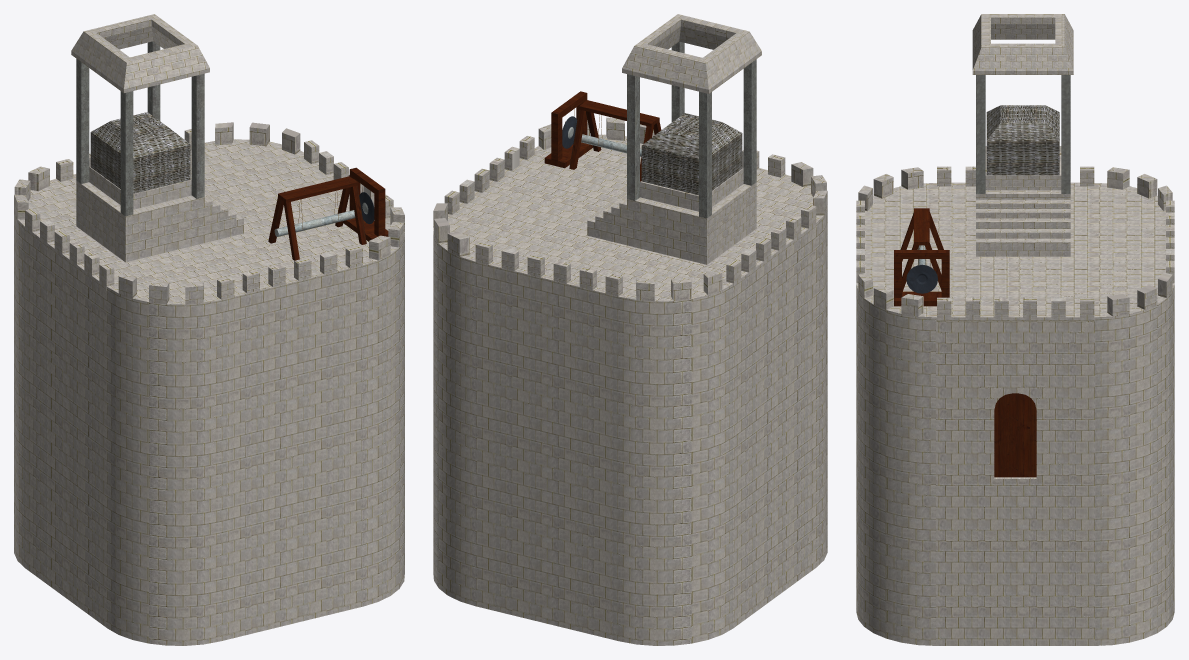
The model's file is mountain_Tower_Full.fbx.
The picture shows the model from 3 angles, left to right: view 1: azimuth 30°, elevation 25°; view 2: azimuth 150°, elevation 25°; view 3: azimuth 270°, elevation 25°; orthographic projection. The views are drawn at different scales.
Visible parts, largest first — view 1: pCube1, pCube6, pCube7, pCube8, pCube9, pCube3, pCube5, pCube10, pCube2, pCylinder1; view 2: pCube1, pCube6, pCube7, pCube8, pCube3, pCube4, pCube2, pCube9, pCube10, pCube5; view 3: pCube1, pCube6, pCube7, pCube8, pCube2, pCube10, pCube9, pCube3, pCylinder6, pCube4, pCube5.
Part boxes in pixels (x1,y1,x2,y2): pCube1: (14, 122, 404, 645); pCube6: (76, 41, 243, 262); pCube7: (71, 14, 209, 92); pCube8: (90, 112, 190, 193); pCube9: (268, 176, 366, 260); pCube3: (25, 208, 114, 290); pCube5: (217, 245, 362, 299); pCube10: (343, 167, 388, 241); pCube2: (304, 140, 393, 218); pCylinder1: (274, 210, 355, 236); pCube1: (433, 117, 827, 645); pCube6: (587, 41, 756, 264); pCube7: (622, 14, 761, 93); pCube8: (641, 113, 742, 195); pCube3: (726, 204, 816, 287); pCube4: (475, 241, 622, 296); pCube2: (444, 136, 534, 214); pCube9: (569, 100, 661, 181); pCube10: (544, 91, 592, 168); pCube5: (640, 124, 785, 177); pCube1: (856, 167, 1174, 645); pCube6: (976, 75, 1070, 256); pCube7: (972, 14, 1073, 74); pCube8: (986, 105, 1059, 175); pCube2: (937, 297, 1094, 320); pCube10: (894, 250, 949, 306); pCube9: (900, 208, 943, 291); pCube3: (937, 166, 1094, 186); pCylinder6: (906, 264, 937, 293); pCube4: (1166, 200, 1174, 283); pCube5: (856, 200, 864, 283).
Size of the model in its own units: 20.02 by 35.88 by 20.
Materials: 7 (7 with a texture image).
